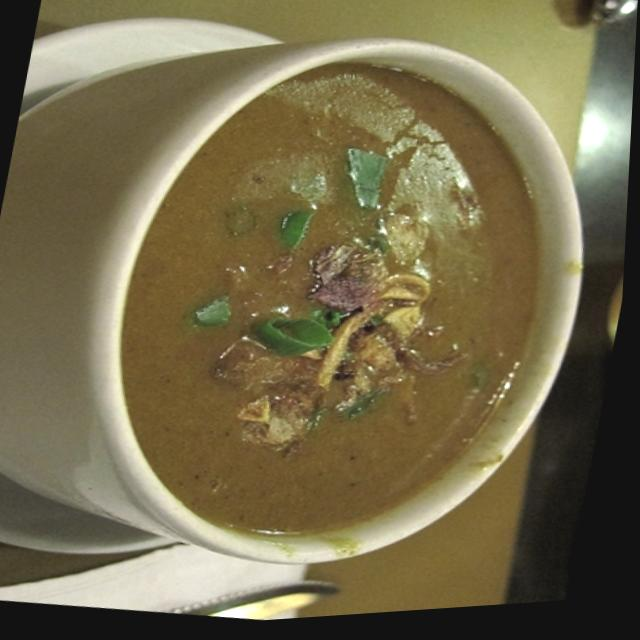汤锅炖物: (0, 0, 640, 637)
